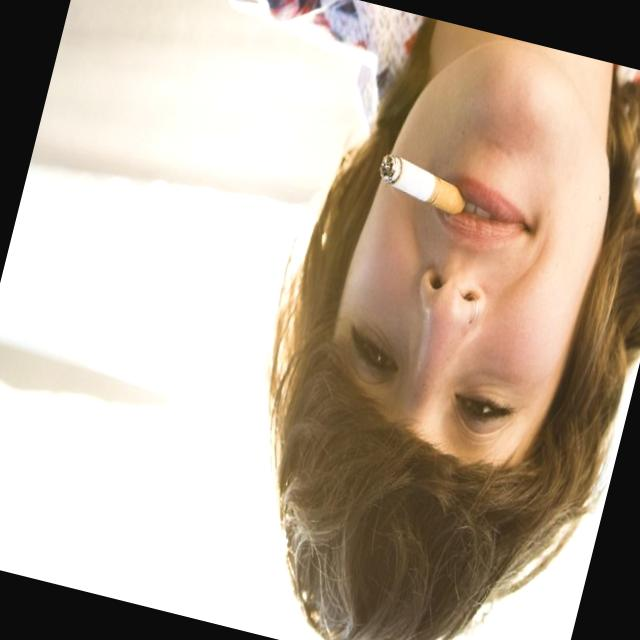cigarette: (359, 124, 492, 240)
